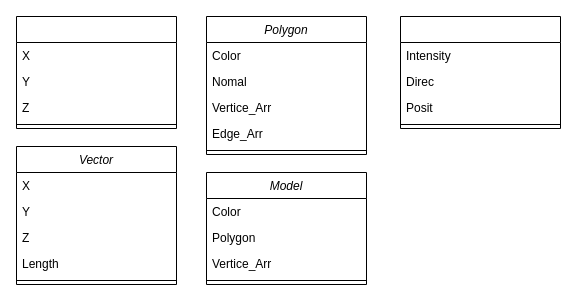
Some shapes in this 577 by 301 pixel diagram are drawn without their labels. Here are the shapes that lost their labels. From the top down, the box of each, then its label:
(16, 16, 176, 128): Point3D
(400, 16, 560, 128): LightSource
